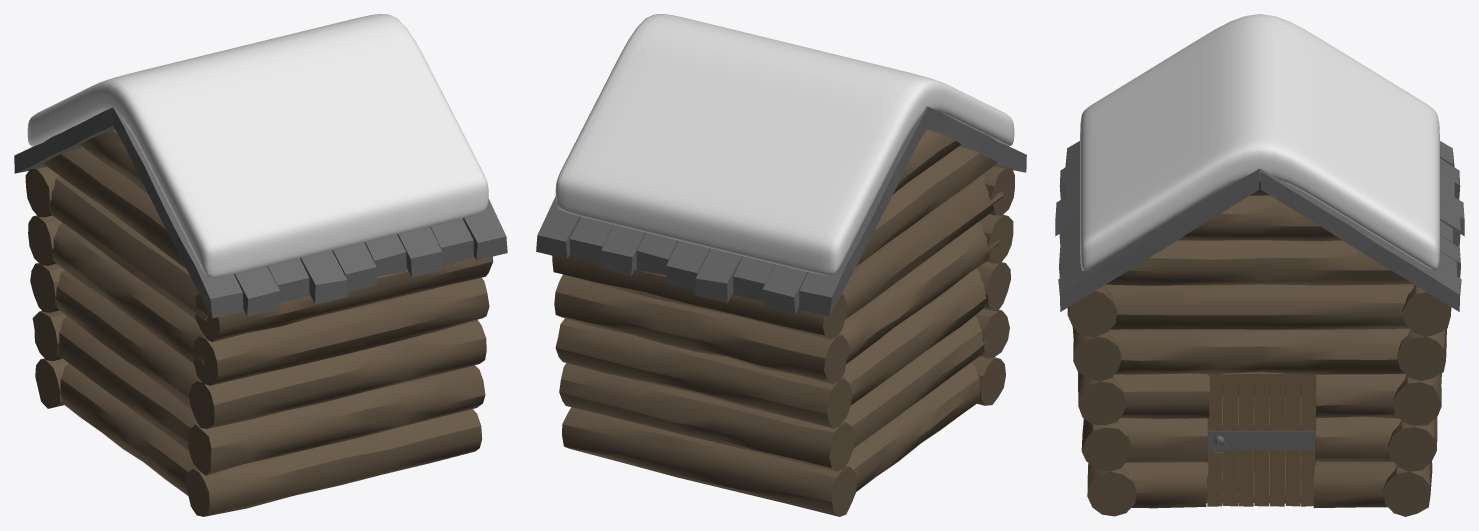
File: snowy_house.fbx
3 views of the same model, side by side, from view 1: azimuth 30°, elevation 25°; view 2: azimuth 150°, elevation 25°; view 3: azimuth 270°, elevation 25° (orthographic).
Parts seen in each view (by area): view 1: Snowy_house; view 2: Snowy_house; view 3: Snowy_house.
Part boxes in pixels (x1,y1,x2,y2): Snowy_house: (14,14,507,516); Snowy_house: (536,14,1026,516); Snowy_house: (1055,14,1464,516).
Bounding box in the file's own units: 341 × 421 × 417.
